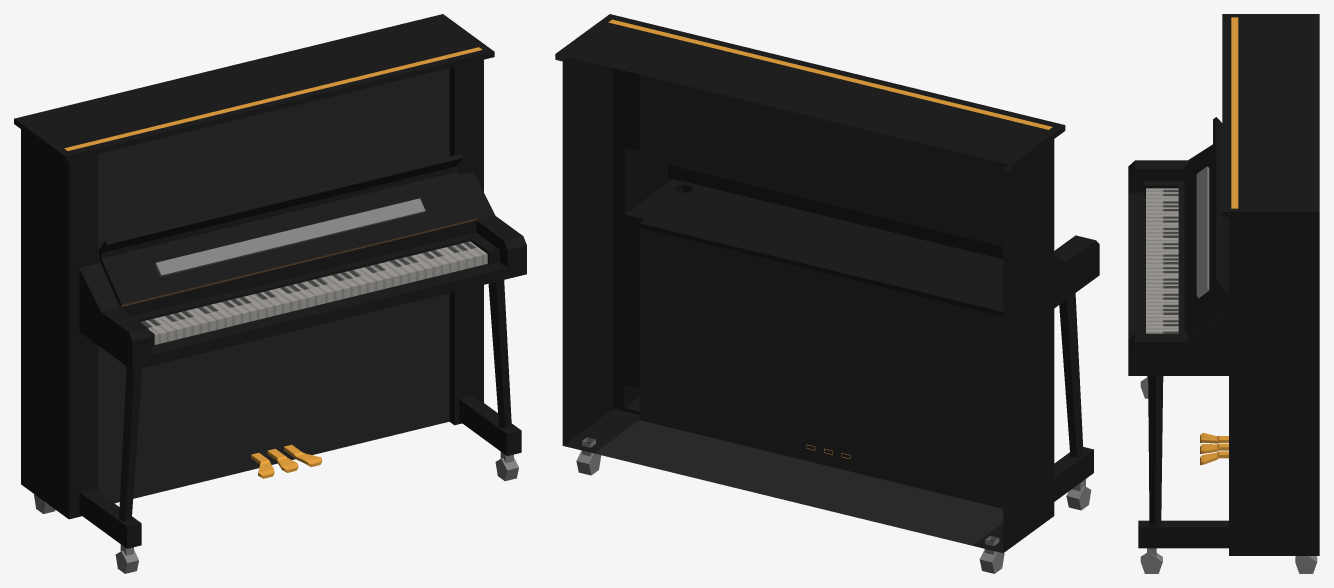
File: Int_MusicRoomPiano01.fbx
3 renders of one model, left to right at view 1: azimuth 30°, elevation 25°; view 2: azimuth 150°, elevation 25°; view 3: azimuth 270°, elevation 25°, orthographic. The views are drawn at different scales.
Parts seen in each view (by area): view 1: Int_MusicRoomPiano01; view 2: Int_MusicRoomPiano01; view 3: Int_MusicRoomPiano01.
Boxes of the visible parts, <box> form: Int_MusicRoomPiano01: <box>14,14,526,573</box>; Int_MusicRoomPiano01: <box>555,14,1099,573</box>; Int_MusicRoomPiano01: <box>1128,14,1319,573</box>.
Size of what is drawn, in the model's own units: 155 by 63.32 by 135.
